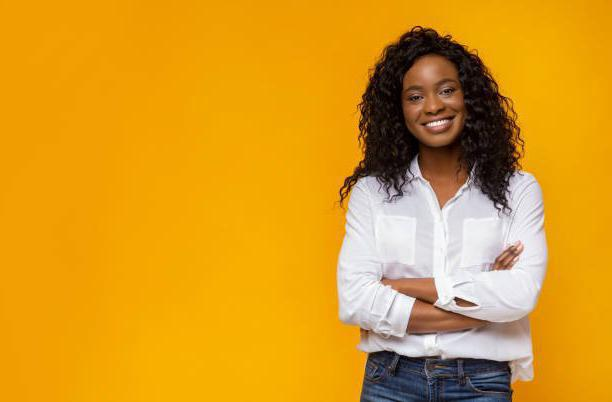Sober: (399, 62, 465, 144)
